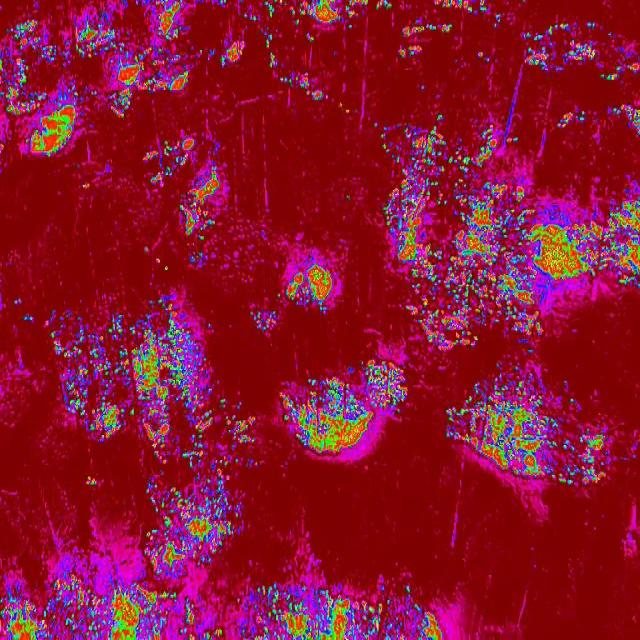fire: (381, 121, 542, 356), (49, 302, 220, 470), (446, 360, 608, 485), (2, 569, 225, 640), (276, 358, 412, 458), (237, 584, 448, 640), (541, 186, 640, 296), (0, 17, 75, 156), (142, 471, 245, 569), (133, 0, 192, 99), (522, 18, 601, 74), (180, 168, 223, 268), (220, 394, 260, 470), (288, 260, 336, 314), (72, 14, 128, 58), (292, 0, 369, 31), (145, 138, 193, 182), (106, 57, 134, 119), (280, 73, 327, 103), (245, 304, 279, 334), (611, 103, 640, 136), (218, 41, 244, 73), (398, 22, 455, 36), (558, 106, 588, 130), (431, 0, 487, 12), (262, 28, 277, 67), (265, 0, 287, 20), (196, 42, 214, 66), (598, 69, 624, 85), (394, 45, 420, 59), (336, 99, 354, 115), (240, 10, 258, 25), (626, 57, 640, 75), (84, 472, 98, 489), (372, 0, 393, 11), (305, 30, 321, 44), (478, 48, 491, 62), (492, 13, 502, 31), (20, 314, 34, 324), (214, 0, 230, 8), (80, 180, 92, 190), (342, 194, 353, 204), (435, 112, 446, 121), (154, 254, 162, 266), (162, 262, 170, 274), (12, 296, 22, 305), (90, 88, 98, 98), (418, 83, 426, 93), (606, 30, 614, 40), (371, 121, 378, 130), (74, 91, 80, 100)
